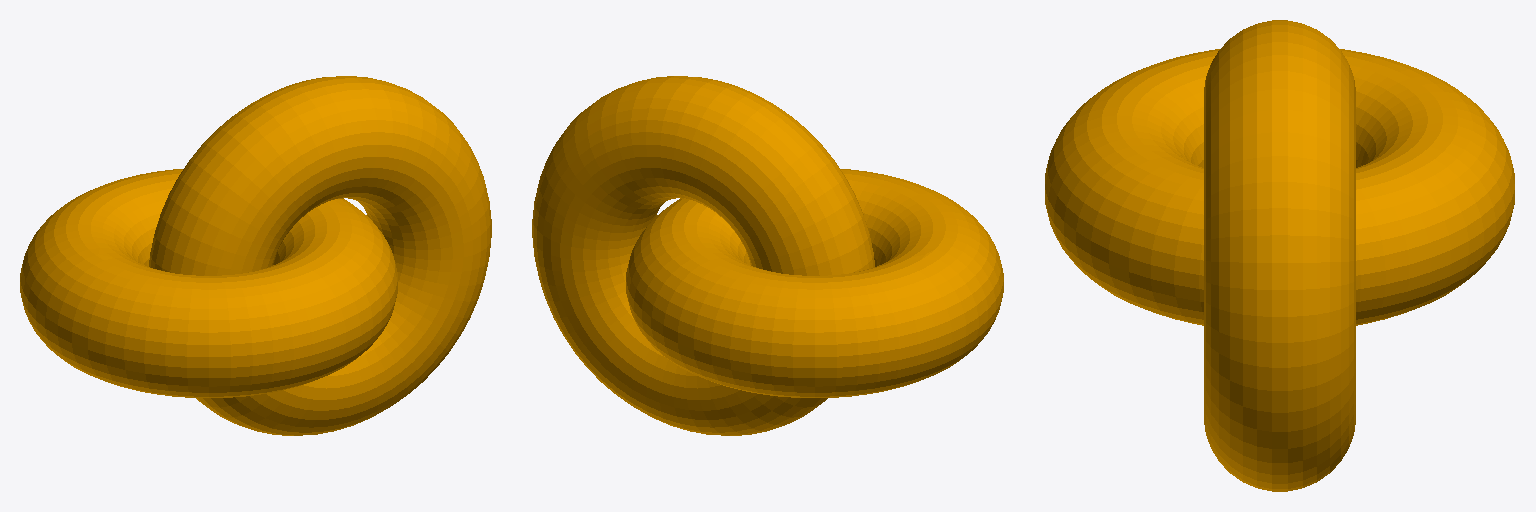
The robot description file, URDF, robot "object":
<?xml version="1.0"?>
<robot name="object">
  <link name="object">
    <visual>
      <origin xyz="0 0 0"/>
      <geometry>
        <mesh filename="../mesh/rings.obj"/>
      </geometry>
    </visual>
    <collision>
      <origin xyz="0 0 0"/>
      <geometry>
        <mesh filename="../mesh/rings.obj"/>
      </geometry>
    </collision>
  </link>
</robot>

--- Facts derived from the render (not from the file) ---
Views: 3 orthographic renders of the robot side by side, from view 1: azimuth 30°, elevation 25°; view 2: azimuth 150°, elevation 25°; view 3: azimuth 270°, elevation 25°.
Model object with 1 links and 0 joints (none), rooted at object, posed all joints at 0.
Visible links, largest first — view 1: object; view 2: object; view 3: object.
Link boxes in pixels (box(x1,y1,x2,y2)): object: box(20, 76, 491, 435); object: box(532, 76, 1003, 435); object: box(1045, 20, 1514, 491).
Bounding box of the posed robot: 1.98 × 1.48 × 1.48 m (x, y, z).
Meshes: 1 distinct files referenced, 1 mesh visuals loaded (1 OBJ).